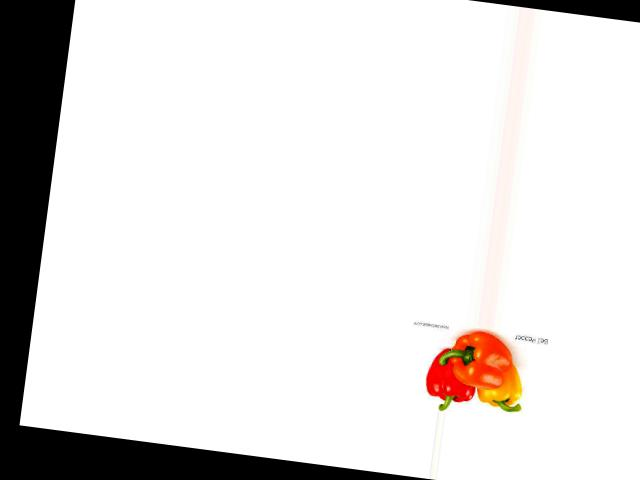bell_pepper: (472, 357, 529, 416)
